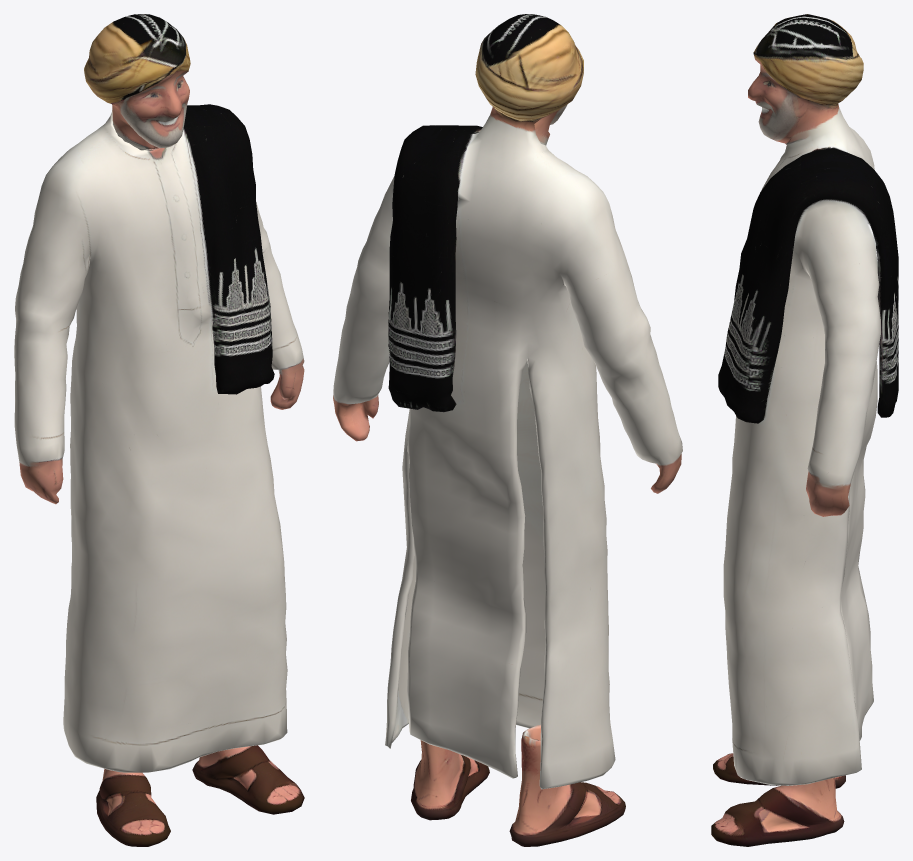
The model's file is Meshy_AI_our_jedoo_0330043350_texture.fbx.
3 views of the same model, side by side, from view 1: azimuth 30°, elevation 25°; view 2: azimuth 150°, elevation 25°; view 3: azimuth 270°, elevation 25° (orthographic). The views are drawn at different scales.
Visible parts, largest first — view 1: Mesh_0; view 2: Mesh_0; view 3: Mesh_0.
Part boxes in pixels (x1,y1,x2,y2): Mesh_0: (14, 14, 304, 846); Mesh_0: (333, 14, 682, 846); Mesh_0: (711, 14, 898, 846).
Size of the model in its own units: 407 by 1000 by 220.
Materials: 1 (1 with a texture image).
